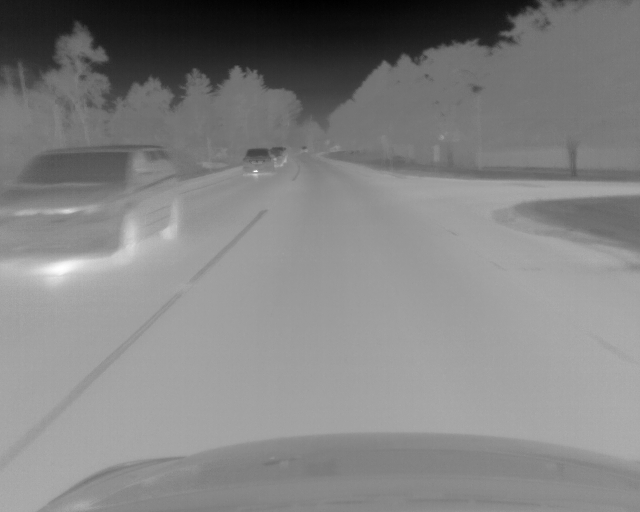car: (2, 142, 182, 267), (241, 148, 275, 176), (272, 146, 290, 169), (299, 145, 308, 153)
